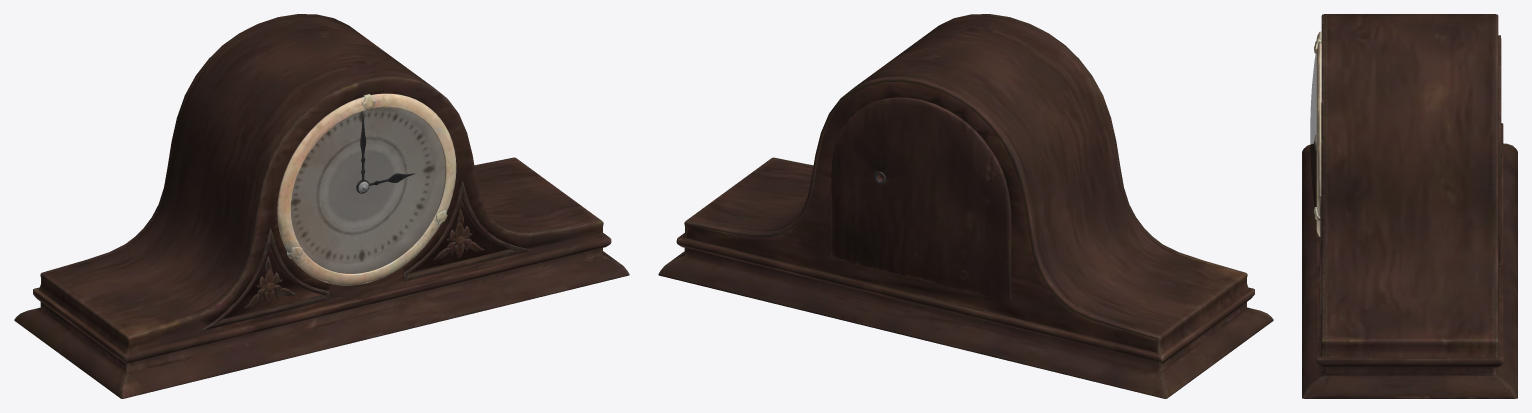
File: mantel_clock_01.glb
3 views of the same model, side by side, from view 1: azimuth 30°, elevation 25°; view 2: azimuth 150°, elevation 25°; view 3: azimuth 270°, elevation 25° (orthographic).
Visible parts, largest first — view 1: mantel_clock_01, mantel_clock_01_glass; view 2: mantel_clock_01; view 3: mantel_clock_01, mantel_clock_01_glass.
Boxes of the visible parts, x1,y1,x2,y2 form: mantel_clock_01: [14, 14, 629, 398]; mantel_clock_01_glass: [291, 107, 445, 273]; mantel_clock_01: [658, 14, 1273, 398]; mantel_clock_01: [1302, 14, 1517, 398]; mantel_clock_01_glass: [1310, 53, 1316, 206].
Bounding box in the file's own units: 0.3423 × 0.1604 × 0.126.
2 materials, 2 textured.
